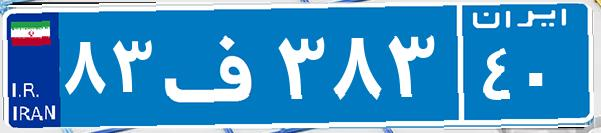0: (525, 38, 570, 115)
3: (385, 28, 445, 110), (273, 28, 330, 110), (110, 28, 158, 105)
4: (475, 38, 525, 113)
8: (330, 28, 385, 110), (57, 26, 110, 107)
ف: (158, 15, 273, 115)
